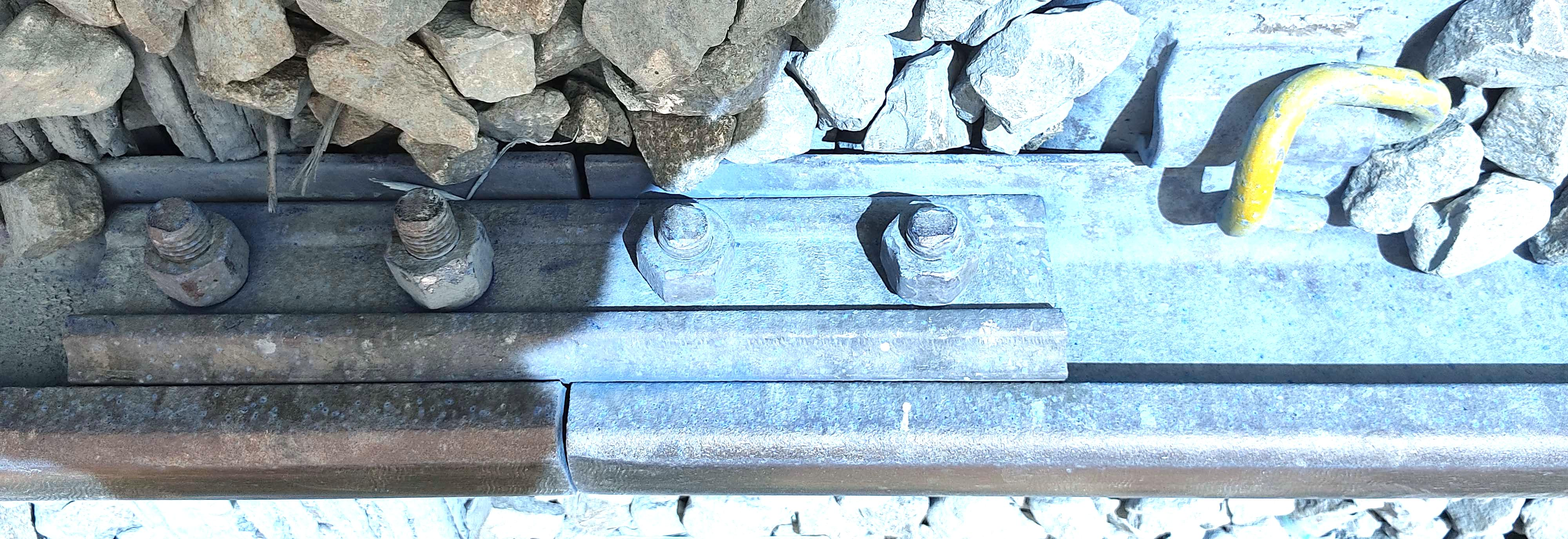Poor contact: (1149, 54, 1477, 263)
duan lie: (542, 381, 596, 507)
